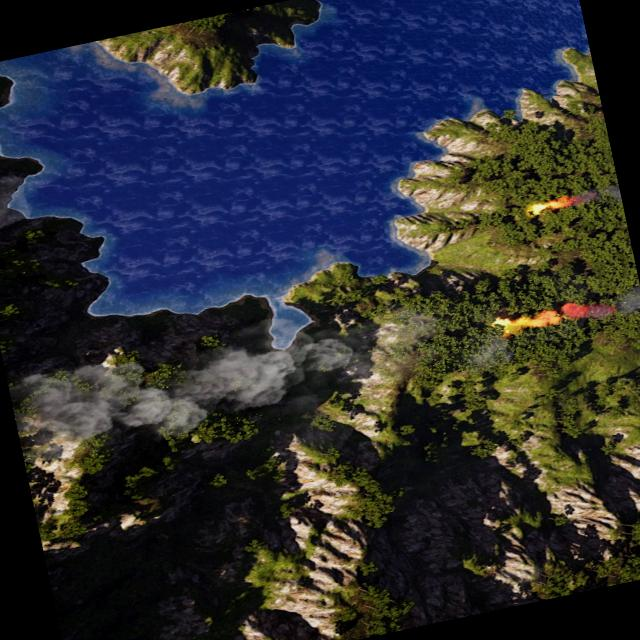fire: (490, 314, 514, 336), (524, 198, 550, 217)
smoke: (10, 282, 459, 480), (515, 287, 640, 335), (551, 182, 621, 211)
